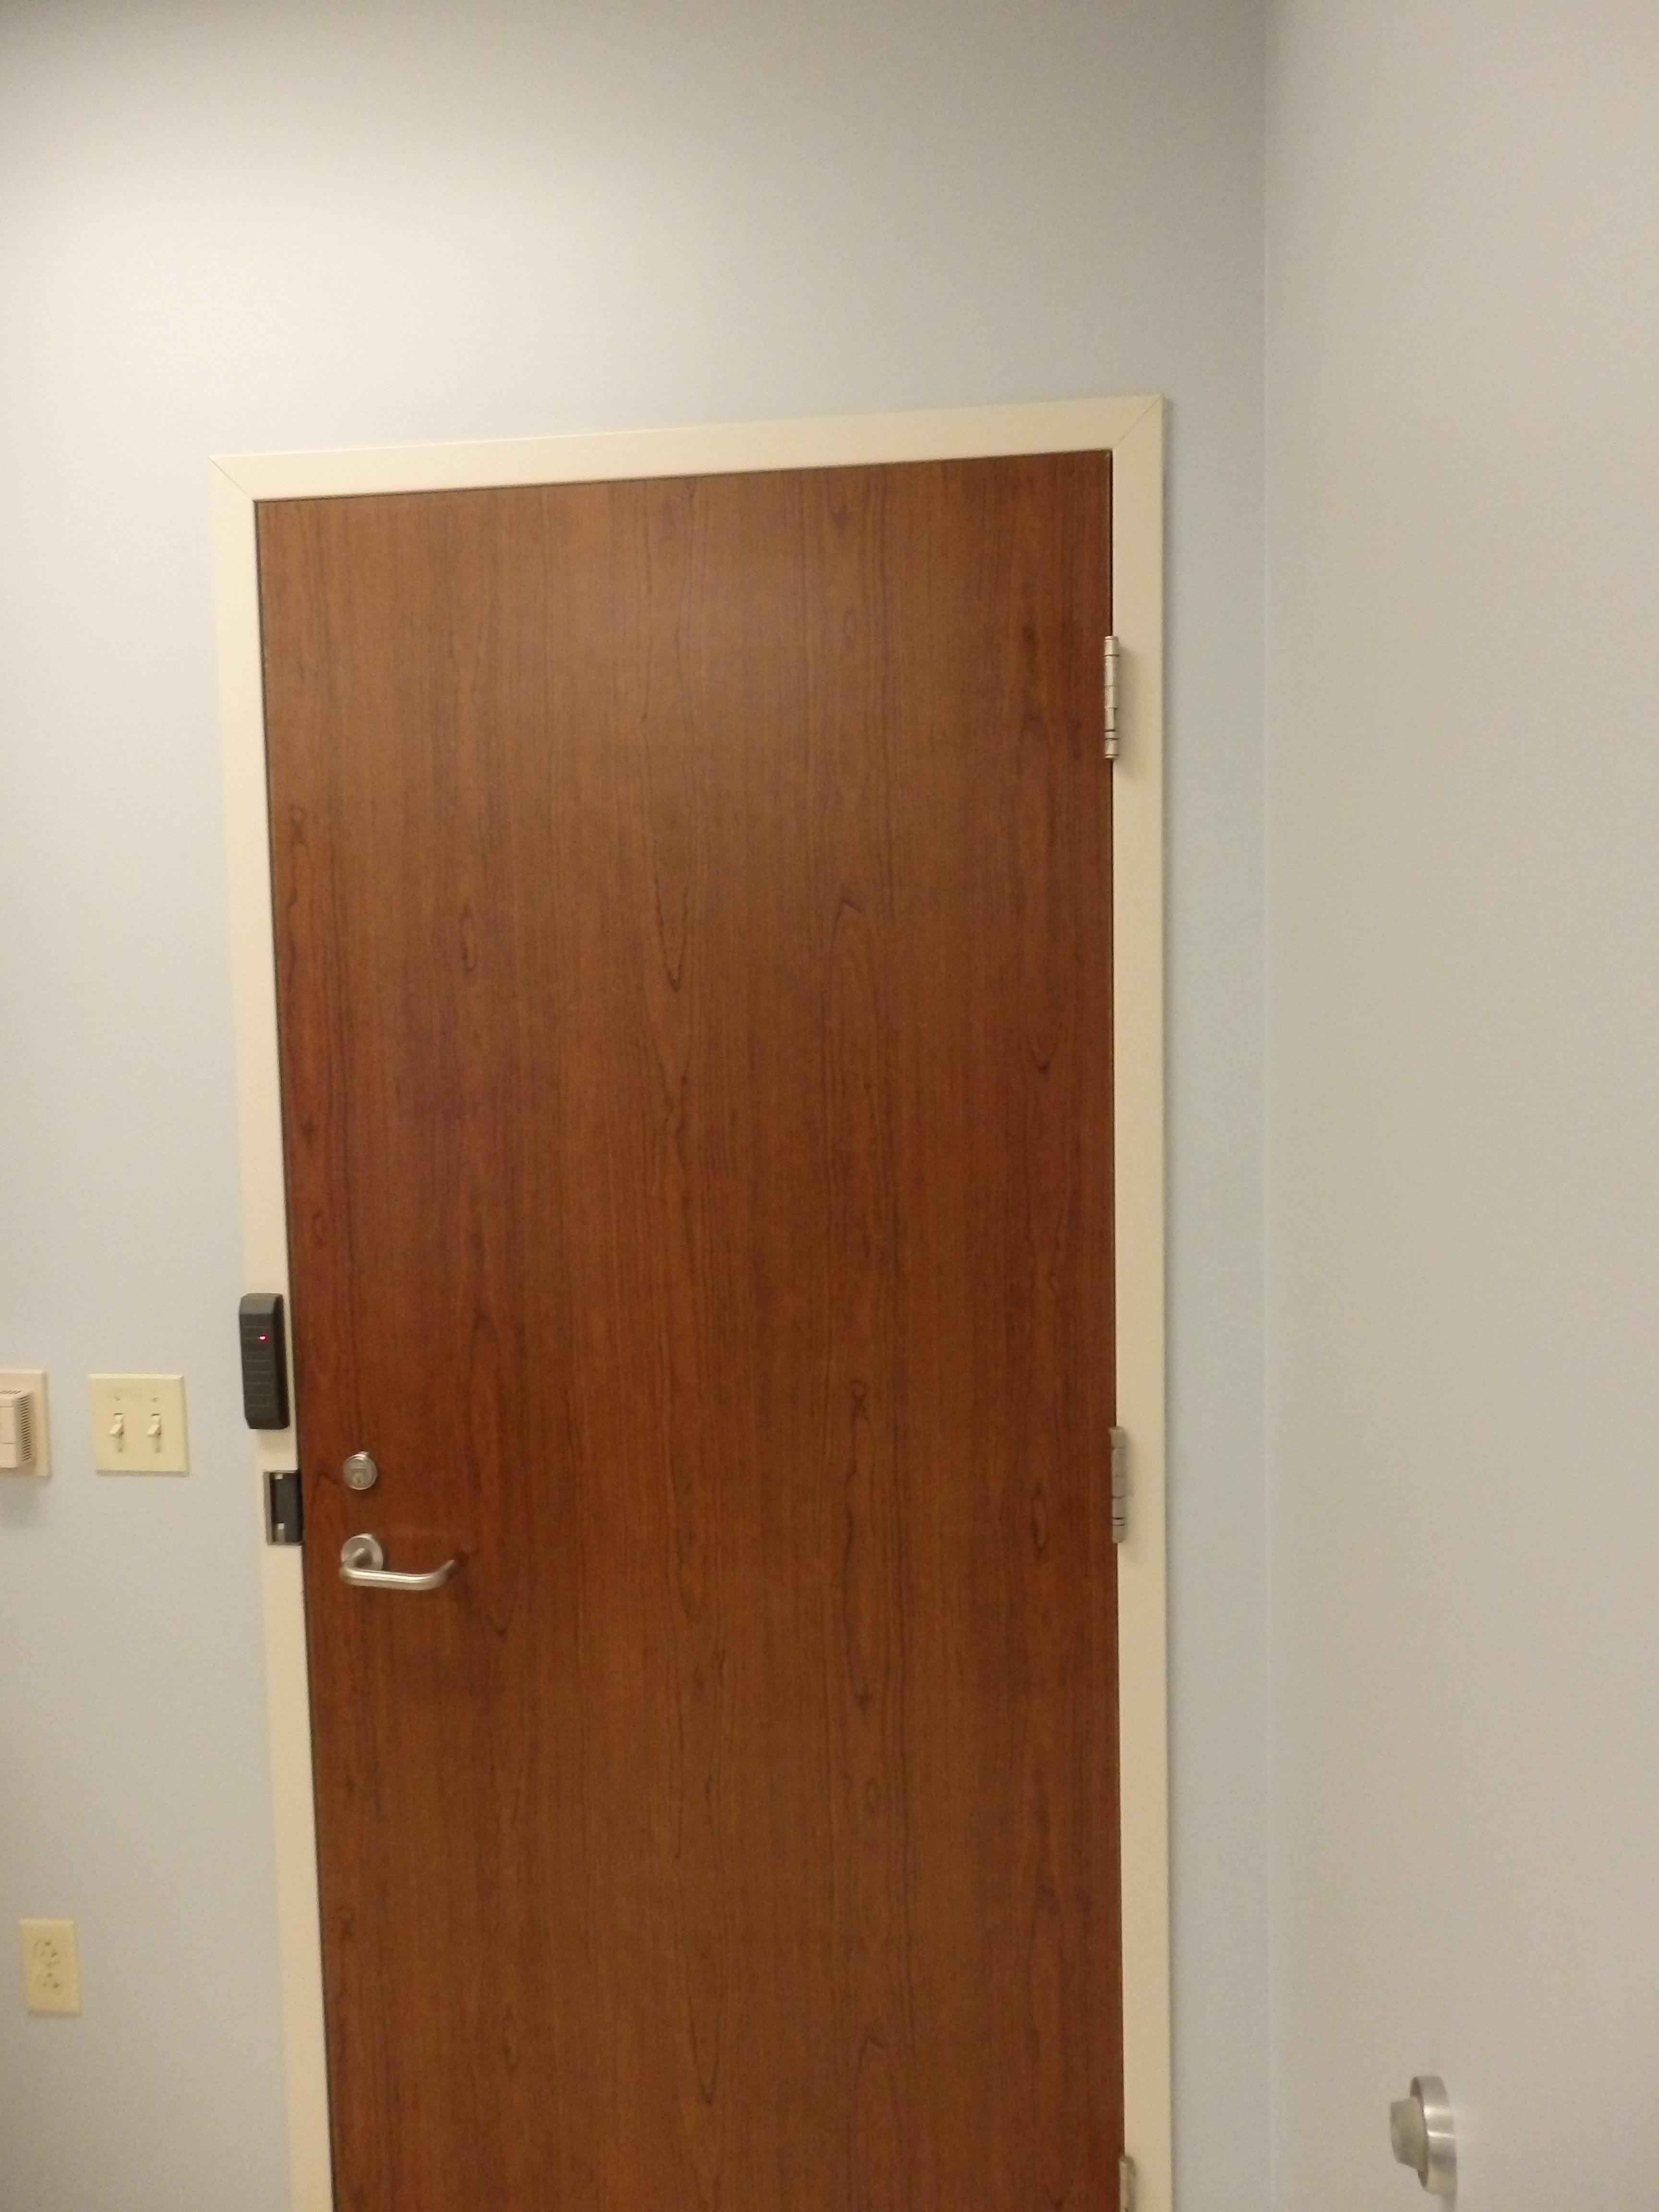door: (244, 430, 1133, 2177)
